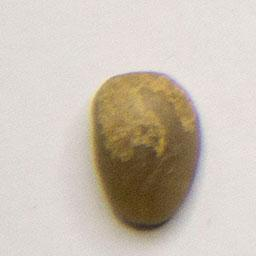longberry: (87, 67, 207, 234)
